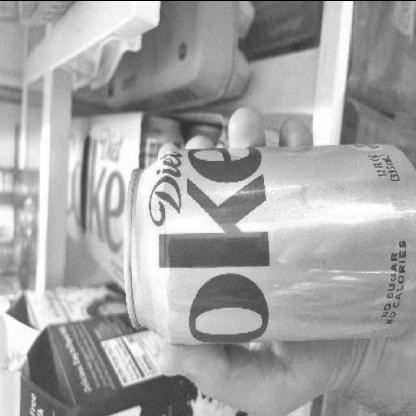alumunium_can: (119, 143, 416, 351)
